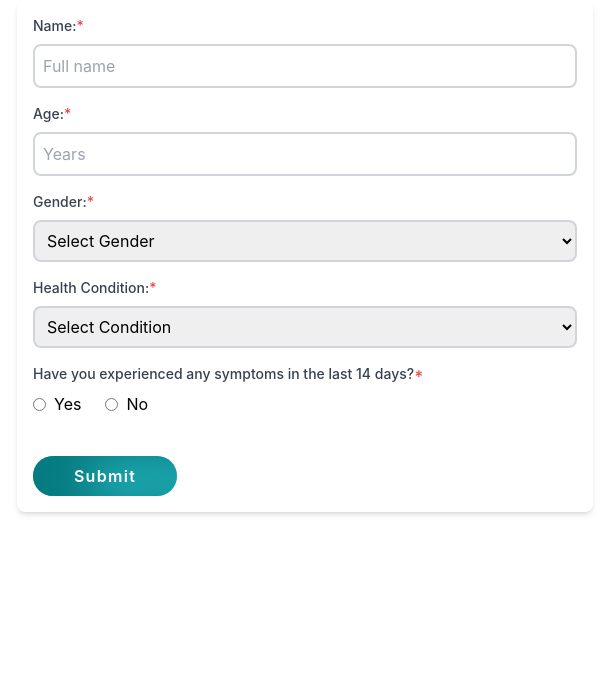
Test: Questionnaire Form › shows validation messages for incomplete form
The width and height of the screenshot is (611, 673).
Click the button "Submit": (105, 476) [33,456,177,496]
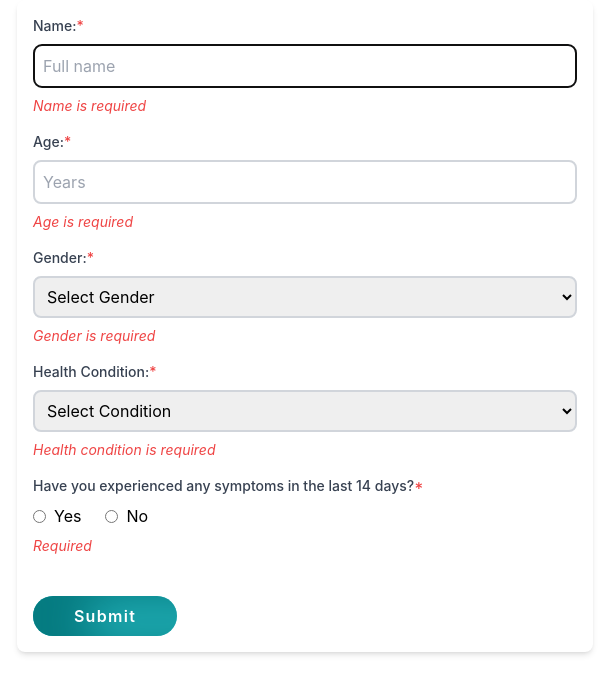
Result: the text "Name is required" is shown at [33,97,146,114]
Result: the text "Age is required" is shown at [33,213,133,230]
Result: the text "Gender is required" is shown at [33,327,155,344]
